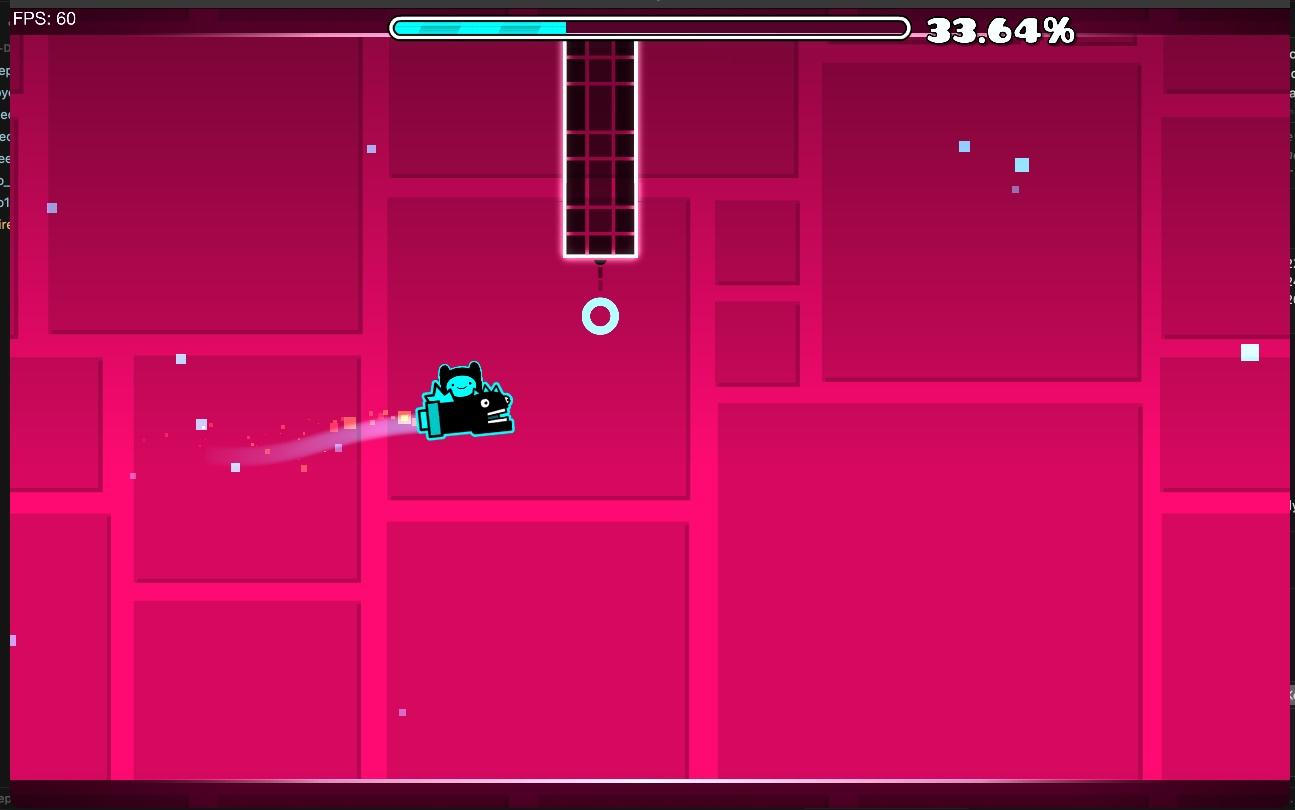block: (563, 36, 637, 259)
spaceship: (413, 361, 513, 440)
